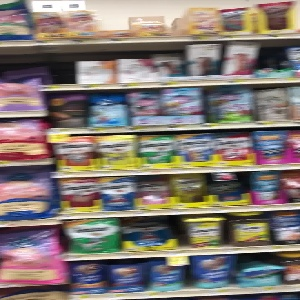void: (39, 48, 75, 85)
